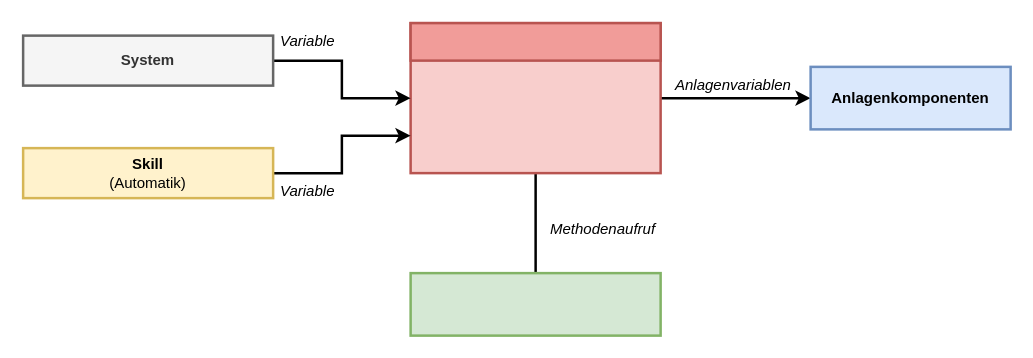
Some shapes in this 1033 by 358 pixel diagram are drawn without their labels. The centre of each missing label's shape, as x and y in pixels:
"Objekt" goes at pixel 535 41.
"Objekt-HMI (Manuell)" goes at pixel 535 303.
